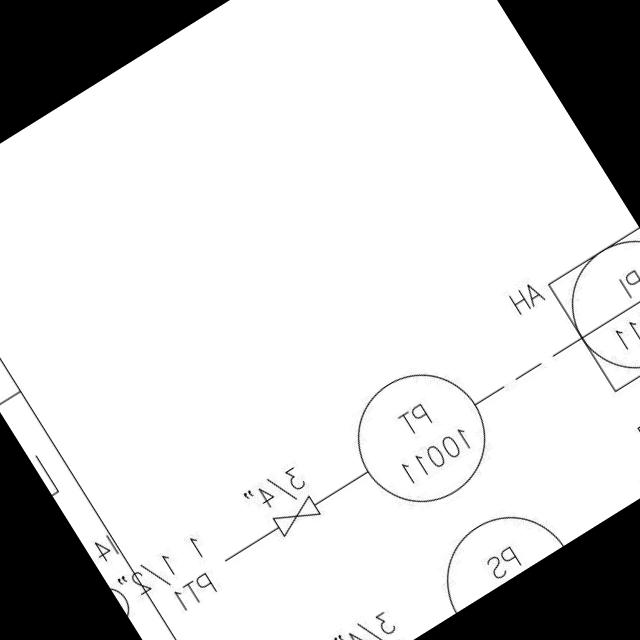GV: (264, 487, 328, 542)
